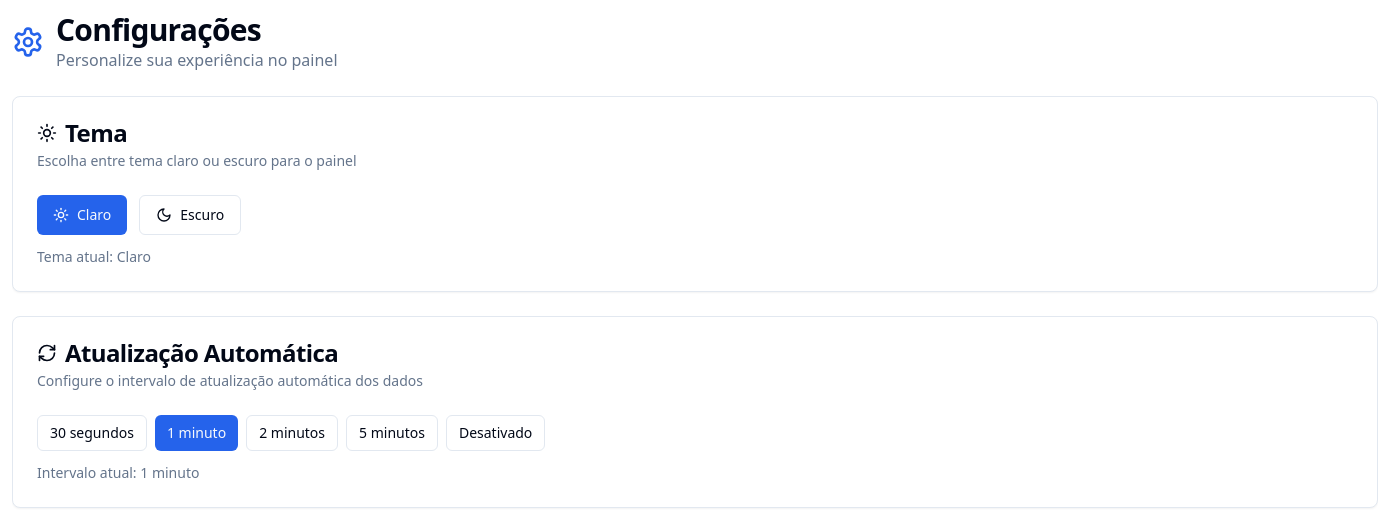
Settings Page › Auto-Refresh Settings Card › should display "Desativado" when refresh interval is 0
This screenshot has width=1378, height=525.
Click the button with test id "refresh-interval-0". click: (496, 433)
box: top-left (446, 415), bottom-right (545, 451)
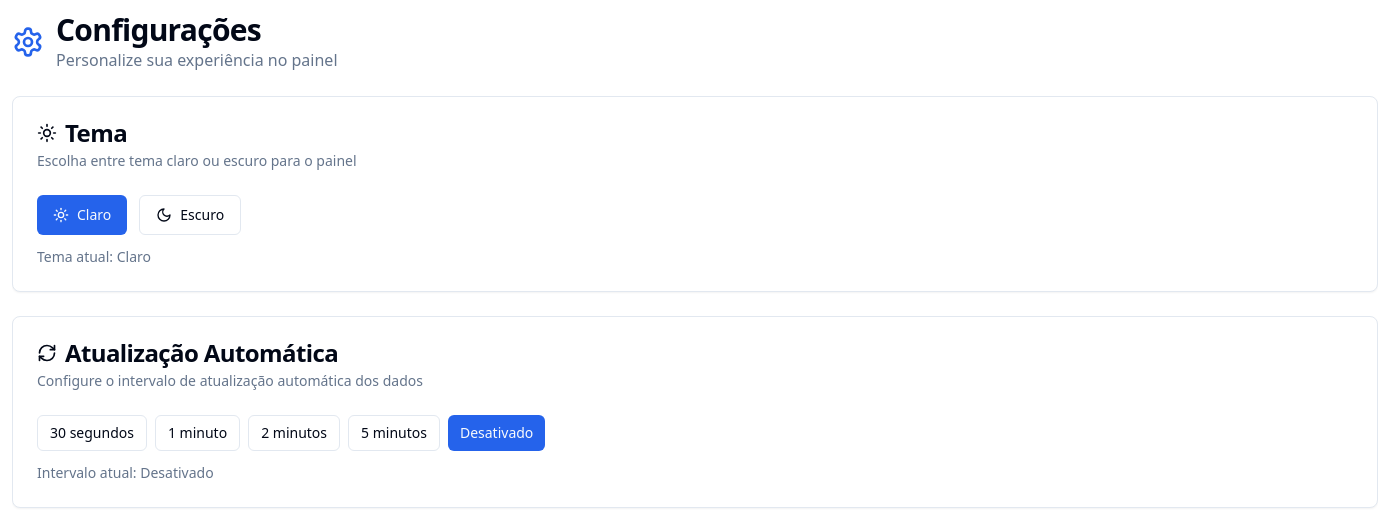
Now the text with test id "current-refresh-interval" reads "Desativado", box top-left (140, 463), bottom-right (214, 482)
